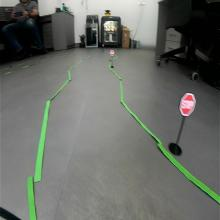stop: (178, 92, 196, 117)
